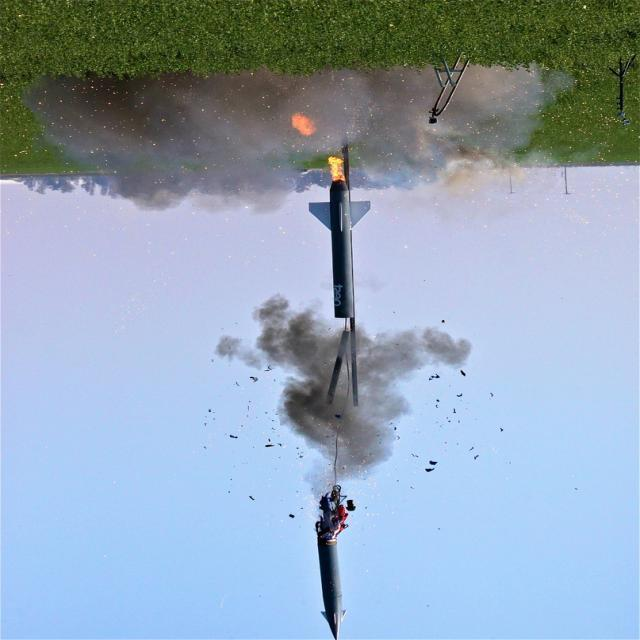missile: (311, 477, 358, 640)
